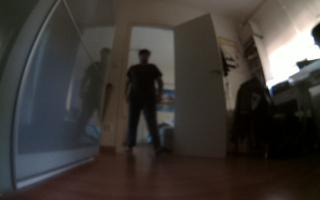person: (122, 46, 171, 156)
